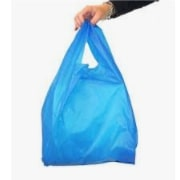kantong: (40, 20, 137, 166)
